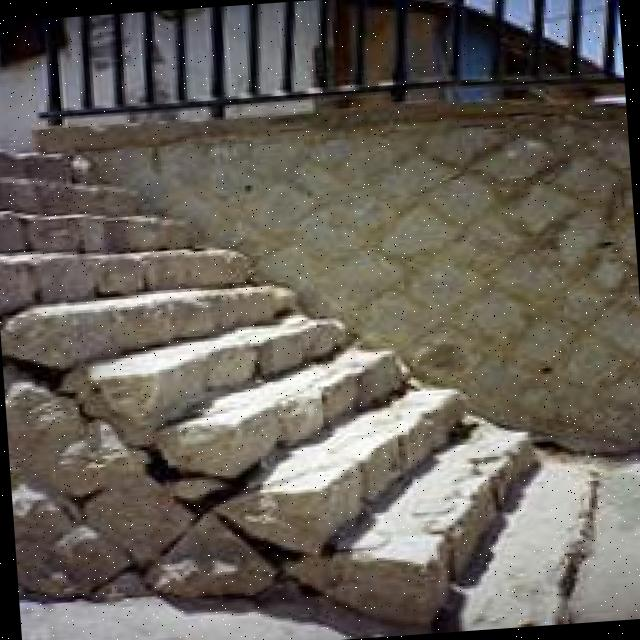stairs: (0, 135, 619, 640)
